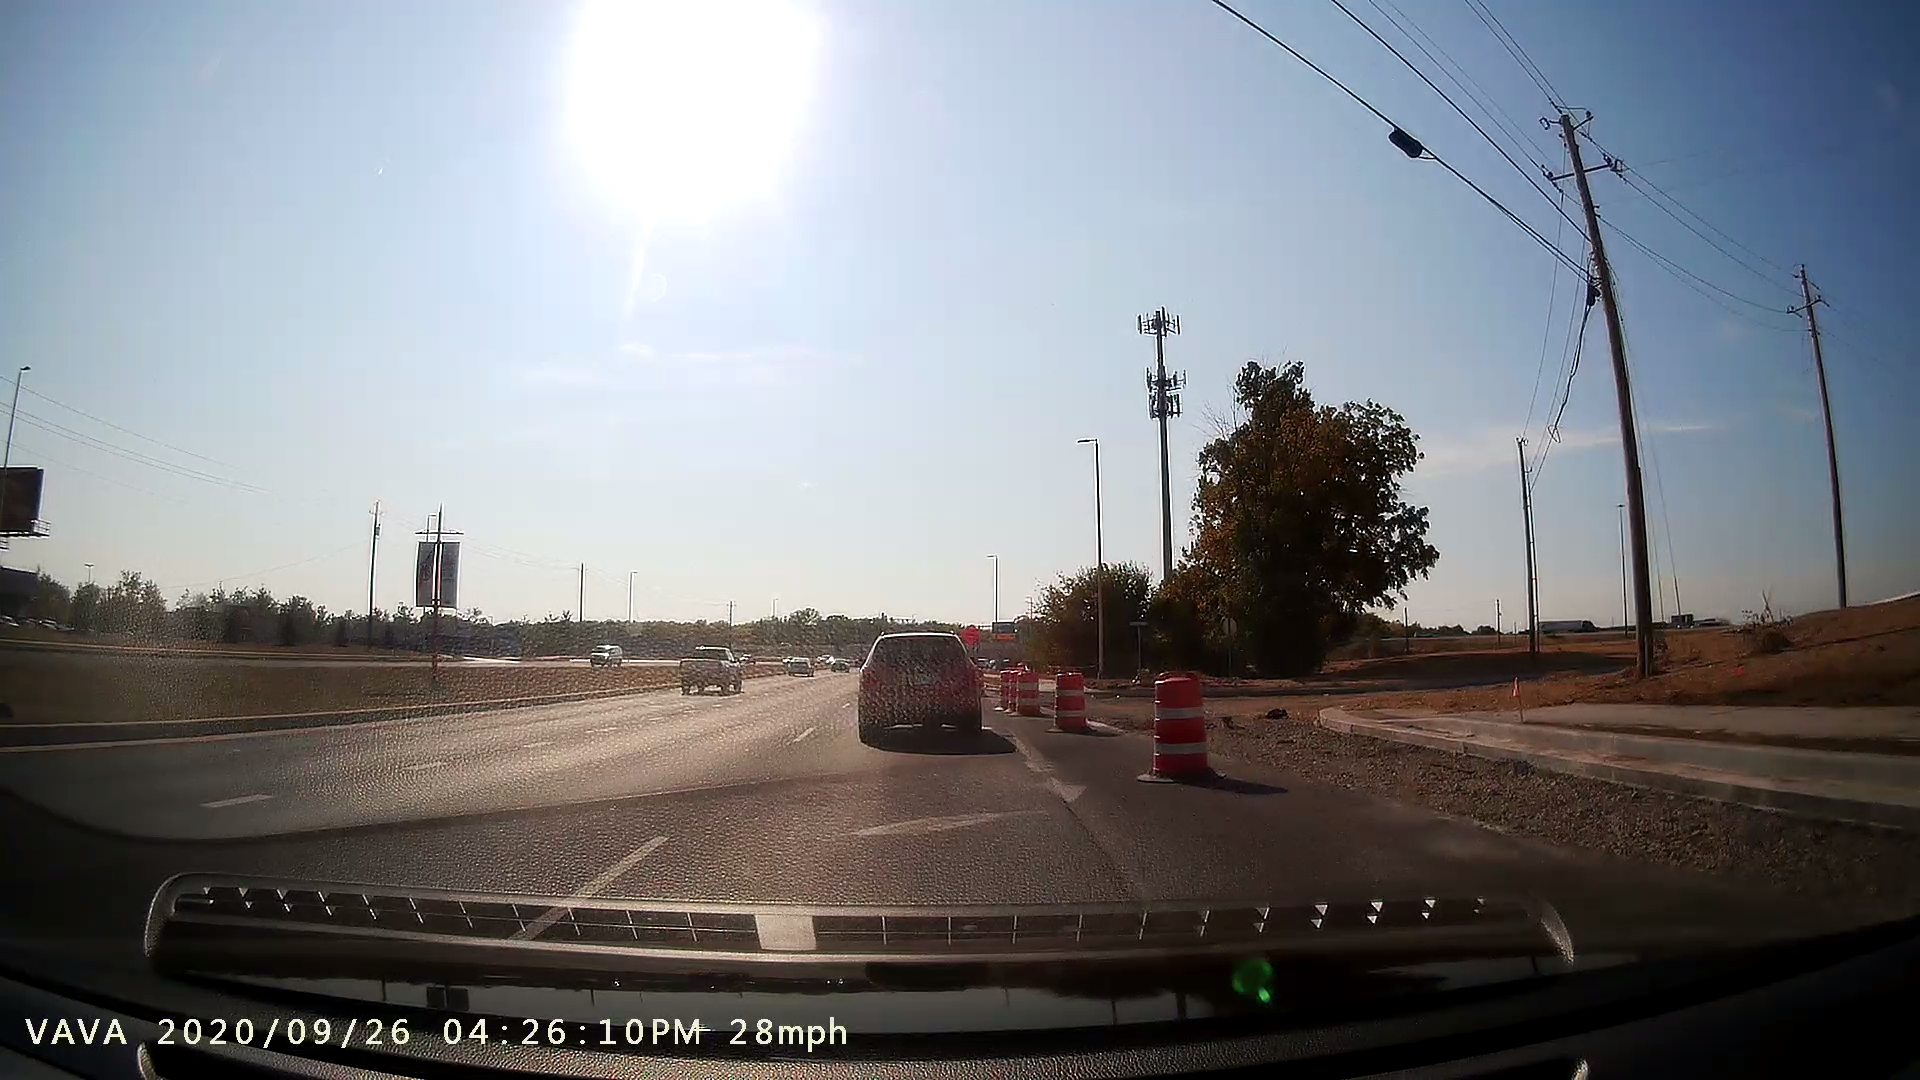const_barrel: (1135, 657, 1225, 791), (1040, 657, 1110, 746)
